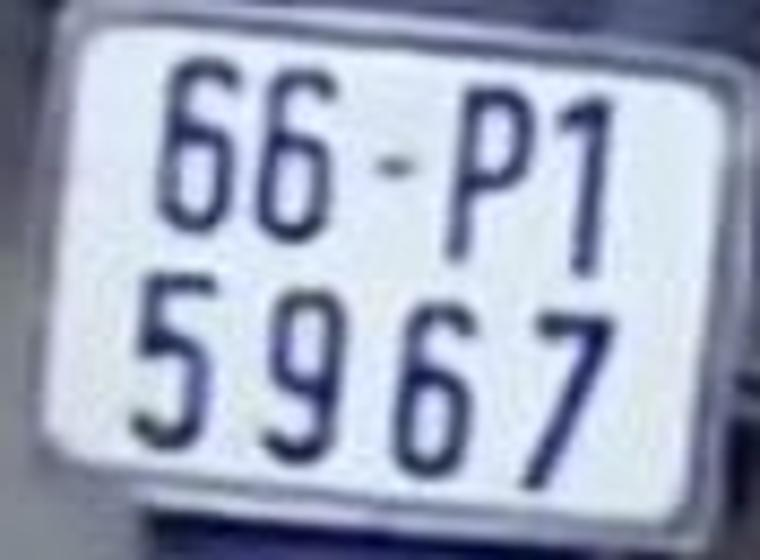-: (370, 146, 420, 187)
1: (543, 71, 629, 281)
5: (130, 271, 230, 458), (257, 54, 343, 253)
6: (386, 293, 488, 486), (152, 52, 249, 239)
7: (514, 300, 623, 497)
9: (258, 279, 350, 471)
P: (442, 77, 540, 264)
